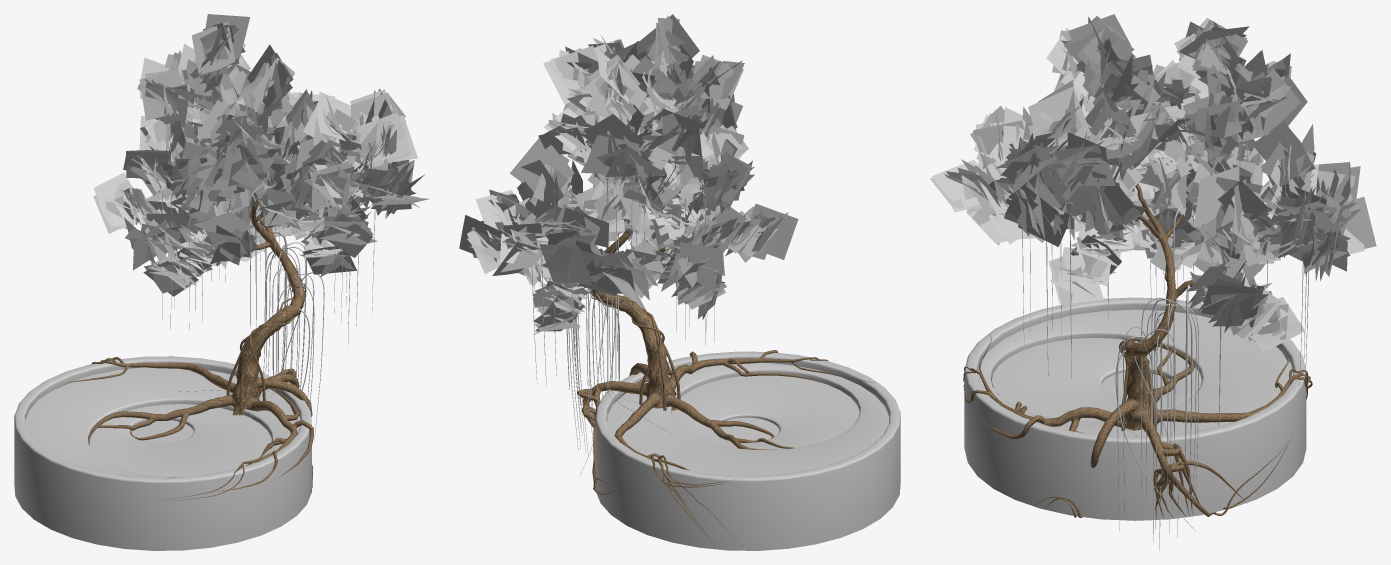
File: Tree And Stand.fbx
3 renders of one model, left to right at view 1: azimuth 30°, elevation 25°; view 2: azimuth 150°, elevation 25°; view 3: azimuth 270°, elevation 25°, orthographic. The views are drawn at different scales.
Visible parts, largest first — view 1: LOD0; view 2: LOD0; view 3: LOD0.
Part boxes in pixels (x1,y1,x2,y2): LOD0: [14, 14, 429, 550]; LOD0: [459, 14, 900, 550]; LOD0: [929, 14, 1376, 550].
Size of the model in its own units: 44.98 by 44.48 by 56.93.
